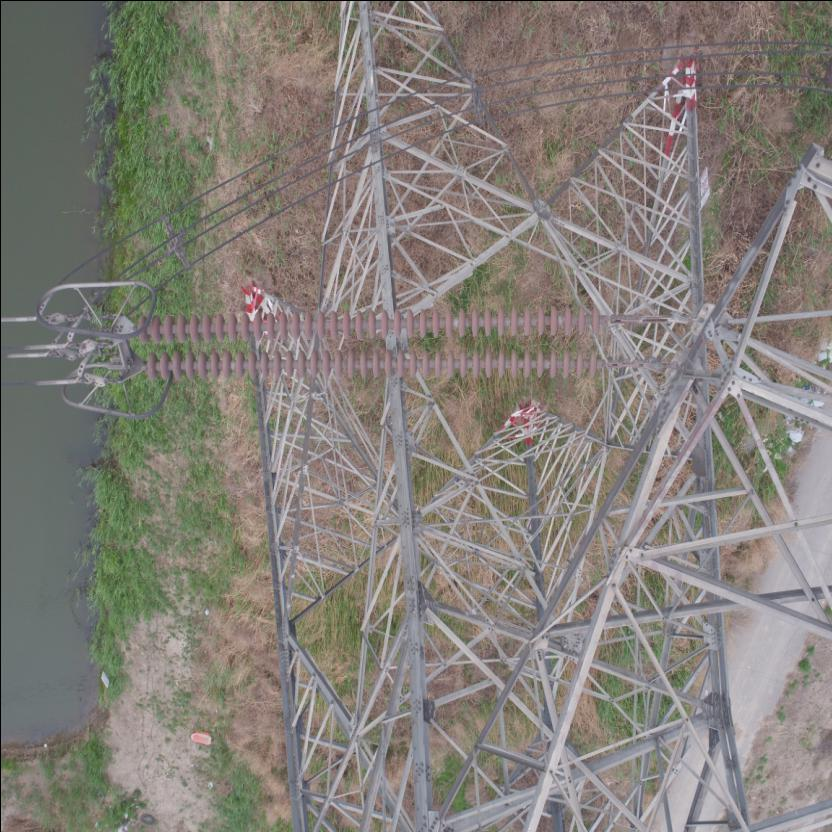insulator: (120, 300, 634, 386)
